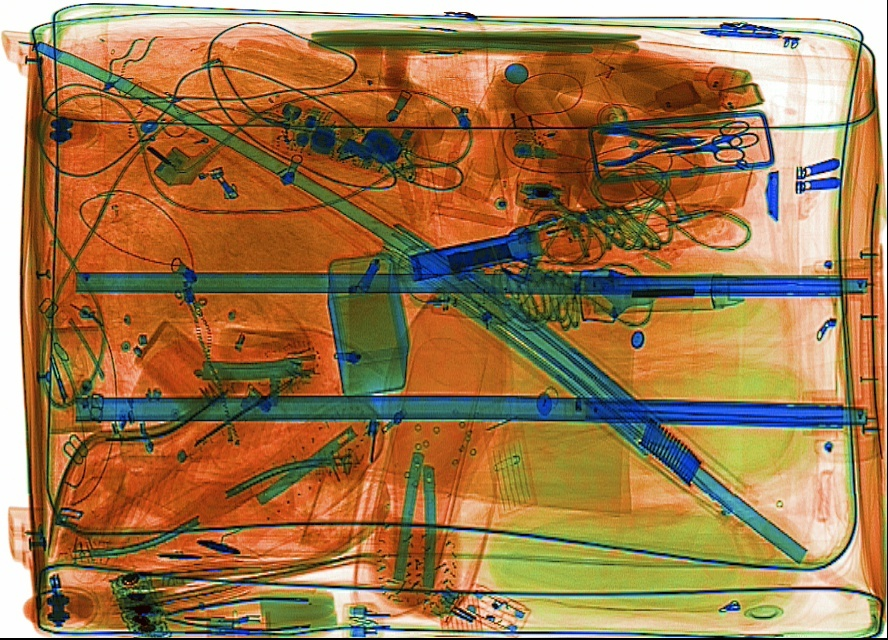scissors: (665, 117, 761, 158), (649, 131, 748, 165)
